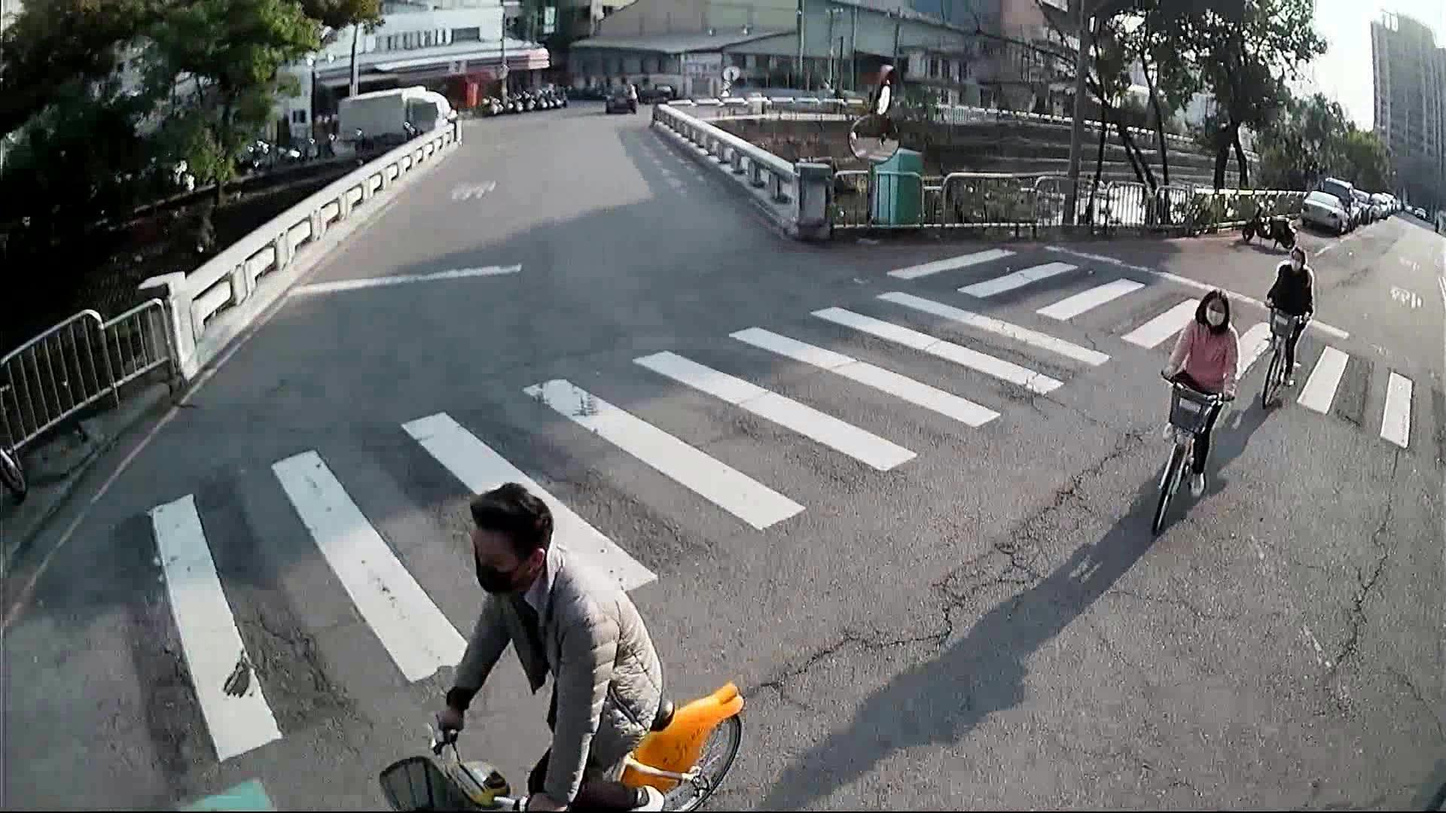person: (427, 481, 670, 810), (1155, 279, 1241, 498), (1264, 245, 1316, 391)
